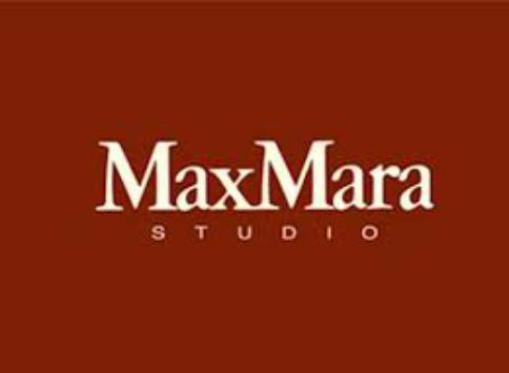MAX-MARA: (95, 135, 439, 214)
